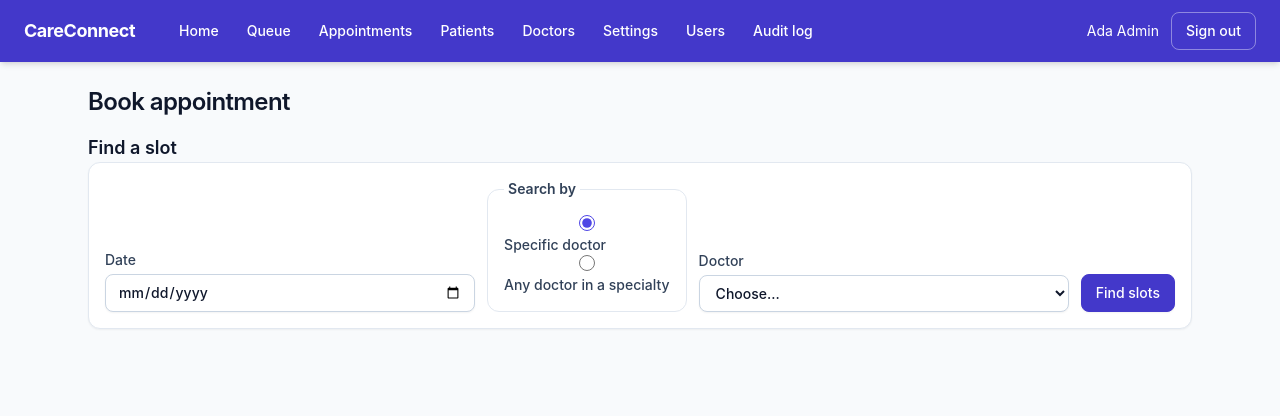
Test: Slot search › searches one doctor and shows times in the clinic time zone
Type "2026-03-02" into the date field labelled "Date" at (290, 293), box top-left (105, 274), bottom-right (475, 312)
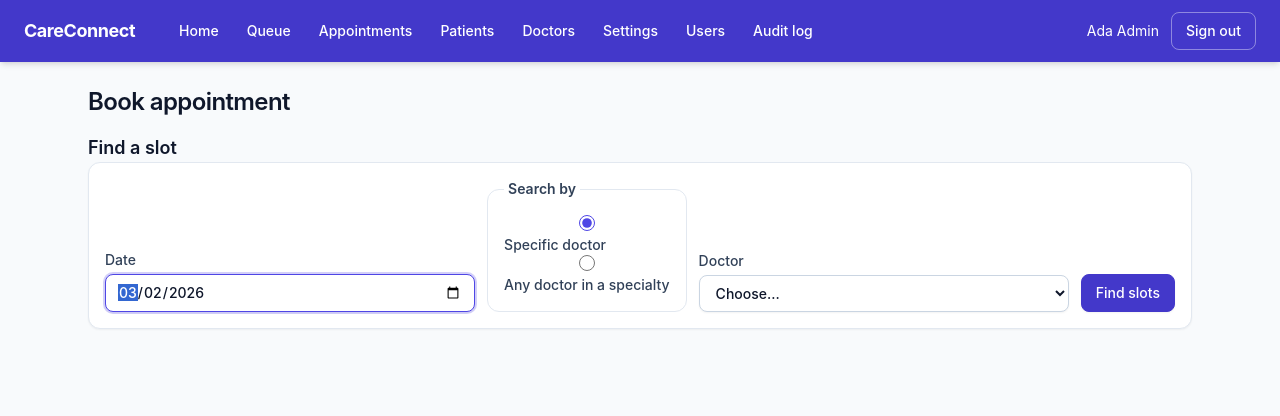
Select "Dr Dan" in the dropdown labelled "Doctor" at (884, 294), box top-left (699, 275), bottom-right (1069, 312)
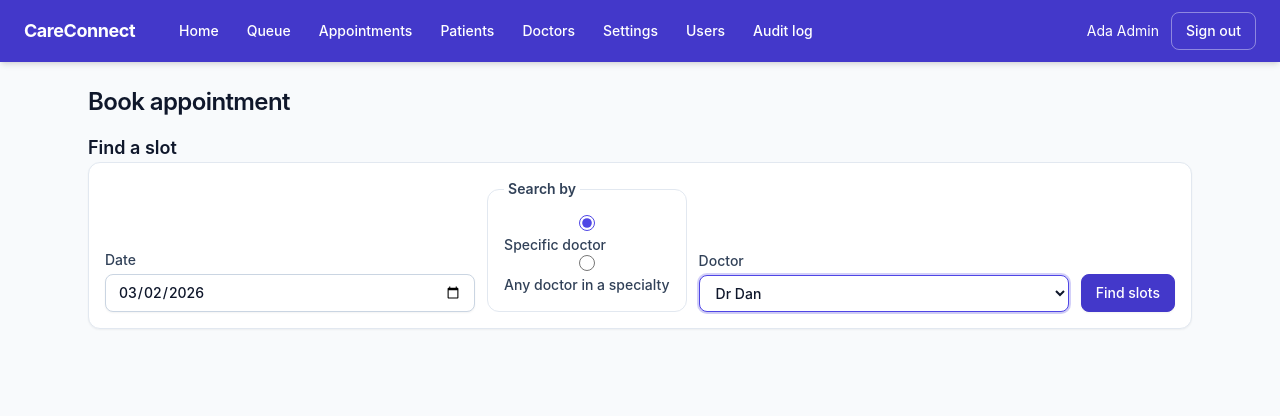
Click the button "Find slots" at (1128, 293), box top-left (1081, 274), bottom-right (1175, 312)
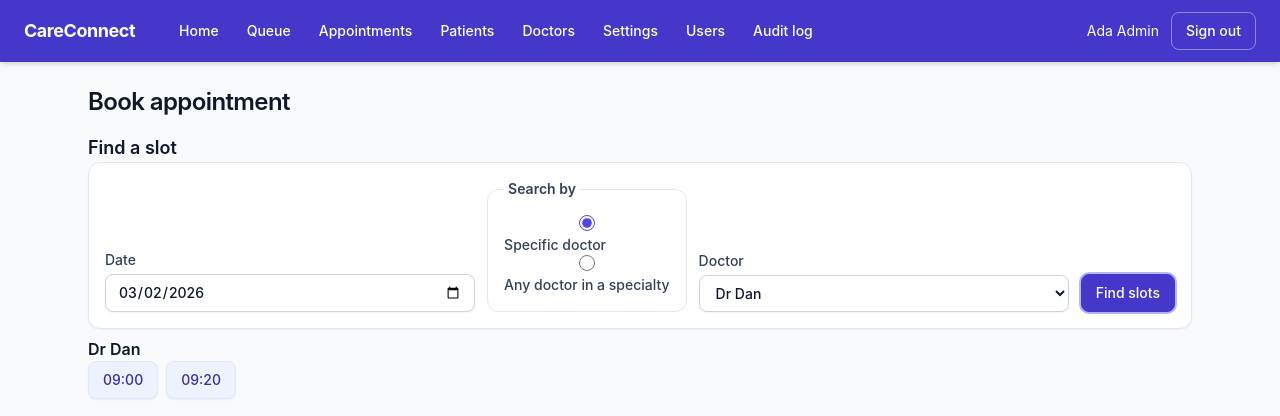
Result: the button "09:00" is shown at top-left (88, 361), bottom-right (158, 399)
Result: the button "09:20" is shown at top-left (166, 361), bottom-right (236, 399)
